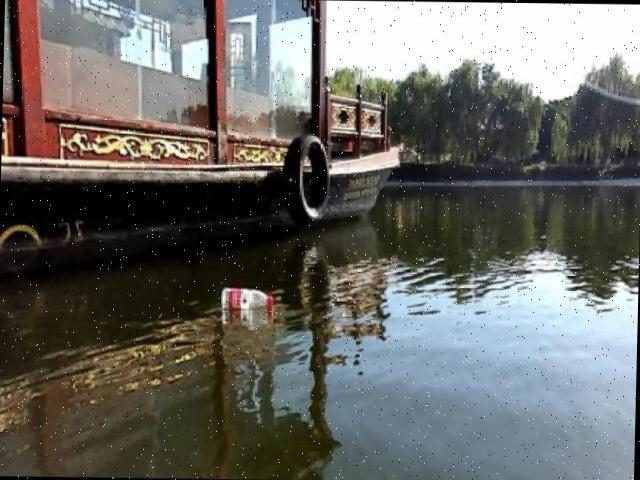Bottle: (218, 287, 274, 315)
